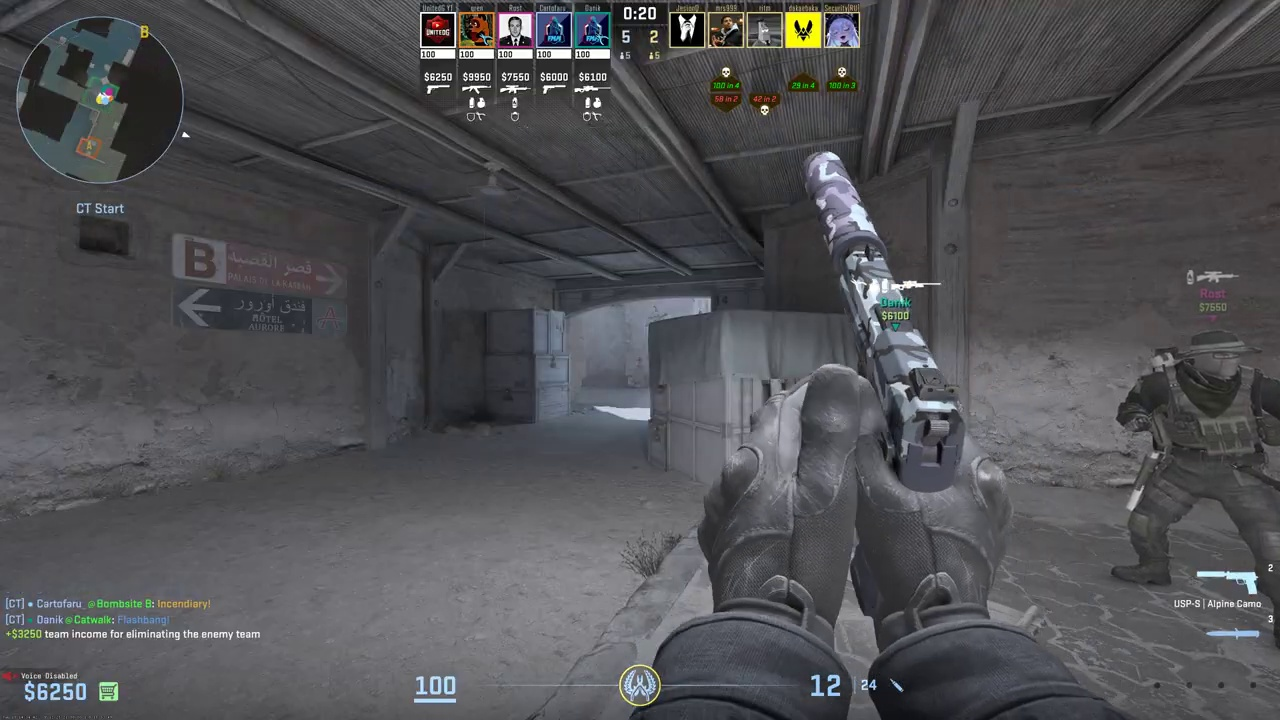CT: (1135, 329, 1280, 628)
